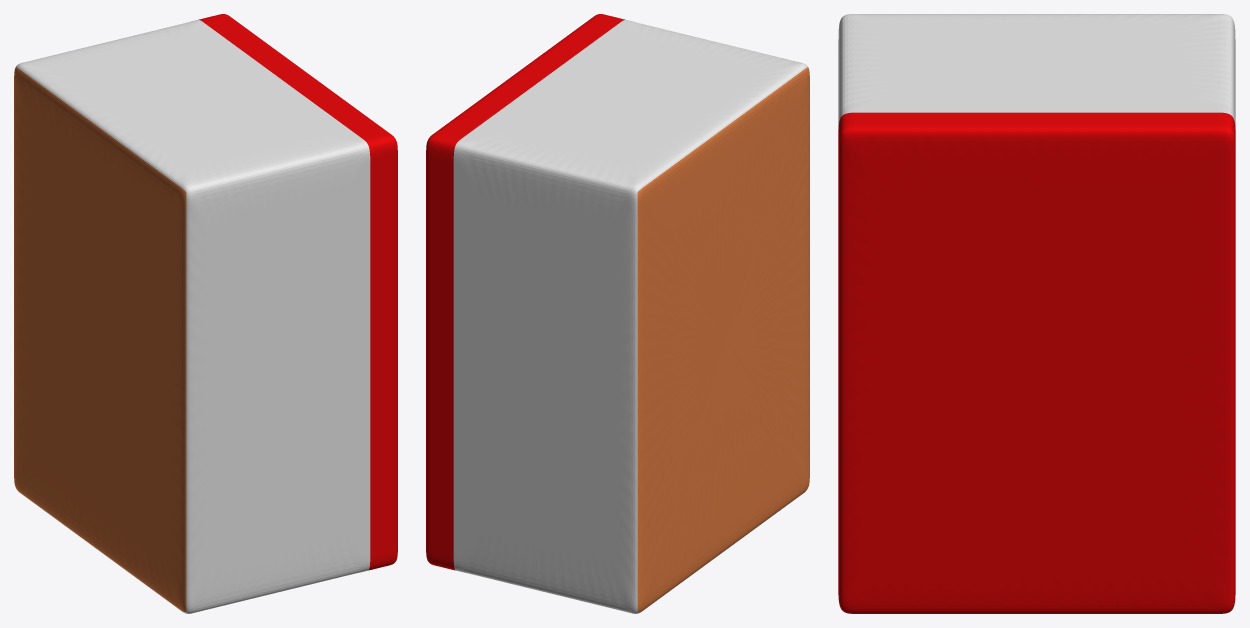
Rendered from MaJiang.fbx.
3 renders of one model, left to right at view 1: azimuth 30°, elevation 25°; view 2: azimuth 150°, elevation 25°; view 3: azimuth 270°, elevation 25°, orthographic. The views are drawn at different scales.
Parts seen in each view (by area): view 1: 立方体; view 2: 立方体; view 3: 立方体.
Boxes of the visible parts, bbox=[...] form: 立方体: bbox=[14, 14, 397, 613]; 立方体: bbox=[426, 14, 809, 613]; 立方体: bbox=[838, 14, 1235, 613].
Bounding box in the file's own units: 6.6 × 12.6 × 9.3.
